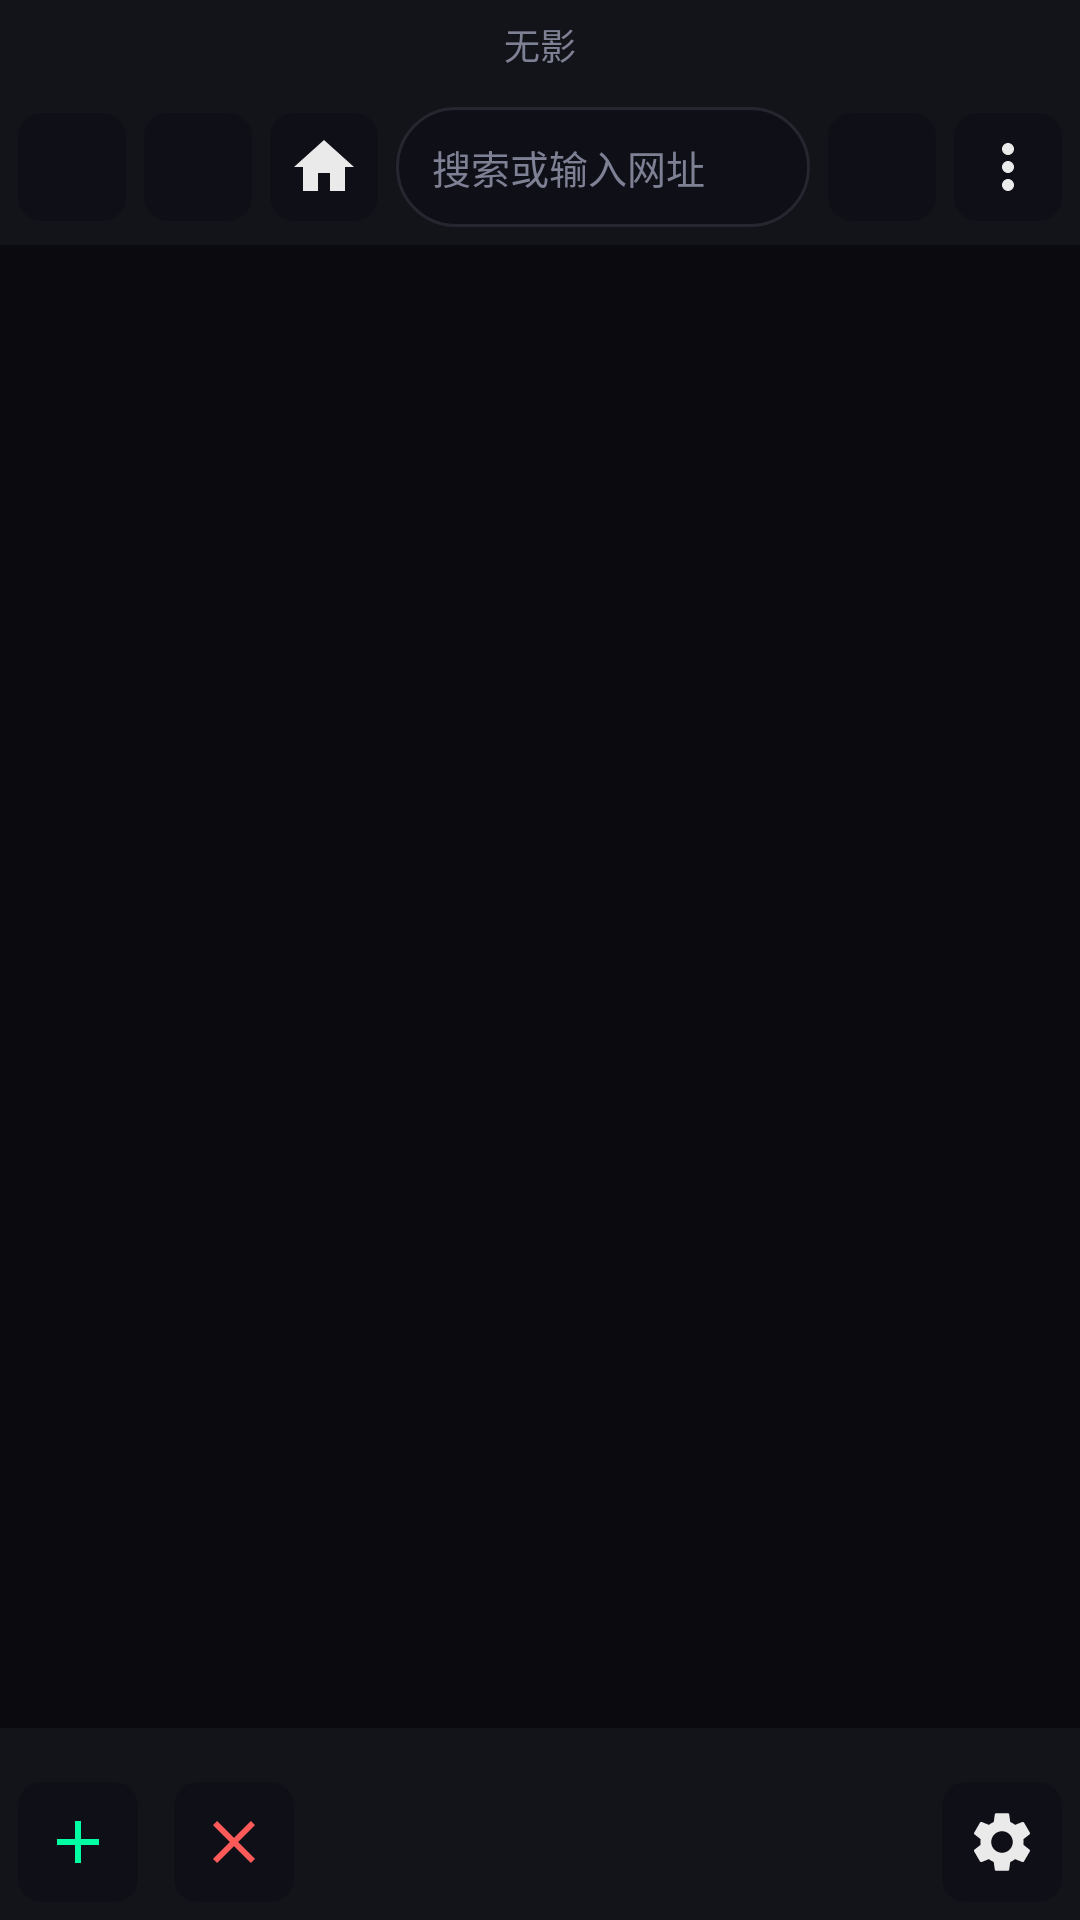

Locate icon controls on the screen. Image size 1080×1920, boxes as (x1, y1, x2, y2).
关闭标签: (213, 1821, 255, 1863)
新建标签: (57, 1821, 99, 1863)
菜单: (1002, 143, 1014, 191)
设置: (974, 1813, 1030, 1871)
首页: (294, 140, 354, 191)
